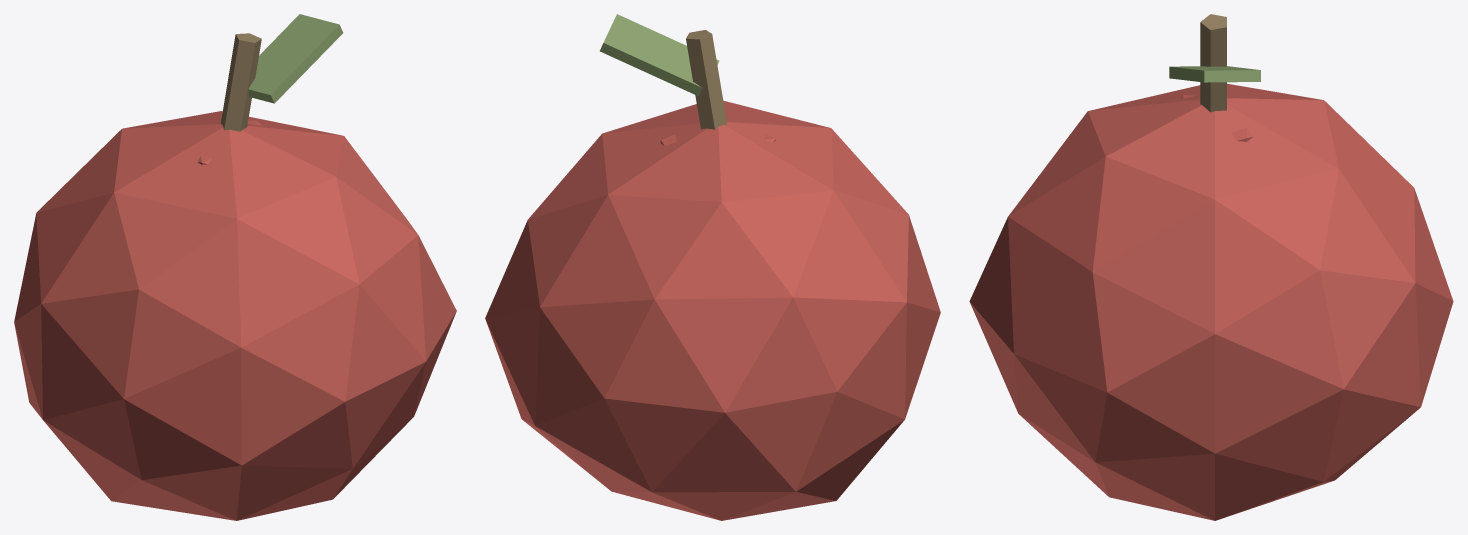
The model's file is food_apple.glb.
3 renders of one model, left to right at view 1: azimuth 30°, elevation 25°; view 2: azimuth 150°, elevation 25°; view 3: azimuth 270°, elevation 25°, orthographic. The views are drawn at different scales.
Visible parts, largest first — view 1: Apple; view 2: Apple; view 3: Apple.
Boxes of the visible parts, x1=… form: Apple: x1=14, y1=14, x2=456, y2=520; Apple: x1=485, y1=14, x2=940, y2=520; Apple: x1=969, y1=14, x2=1453, y2=520.
Bounding box in the file's own units: 0.0758 × 0.0927 × 0.0819.
